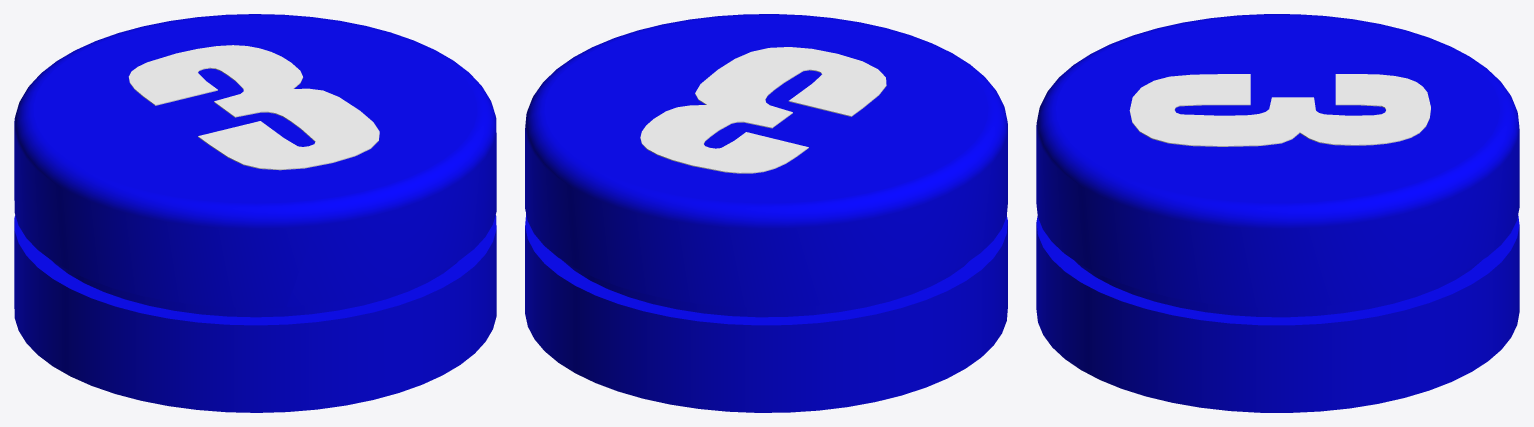
The model's file is nubot_frame3_blue.dae.
The picture shows the model from 3 angles, left to right: view 1: azimuth 30°, elevation 25°; view 2: azimuth 150°, elevation 25°; view 3: azimuth 270°, elevation 25°; orthographic projection.
Visible parts, largest first — view 1: SketchUp (×3), instance_0; view 2: SketchUp (×3), instance_0; view 3: SketchUp (×3), instance_0.
Boxes of the visible parts, <box> form: SketchUp (×3): <box>14,14,496,412</box>; instance_0: <box>128,45,379,170</box>; SketchUp (×3): <box>525,14,1007,412</box>; instance_0: <box>640,47,886,173</box>; SketchUp (×3): <box>1036,14,1519,412</box>; instance_0: <box>1129,74,1430,146</box>.
Size of the model in its own units: 19.66 by 19.68 by 9.09.
